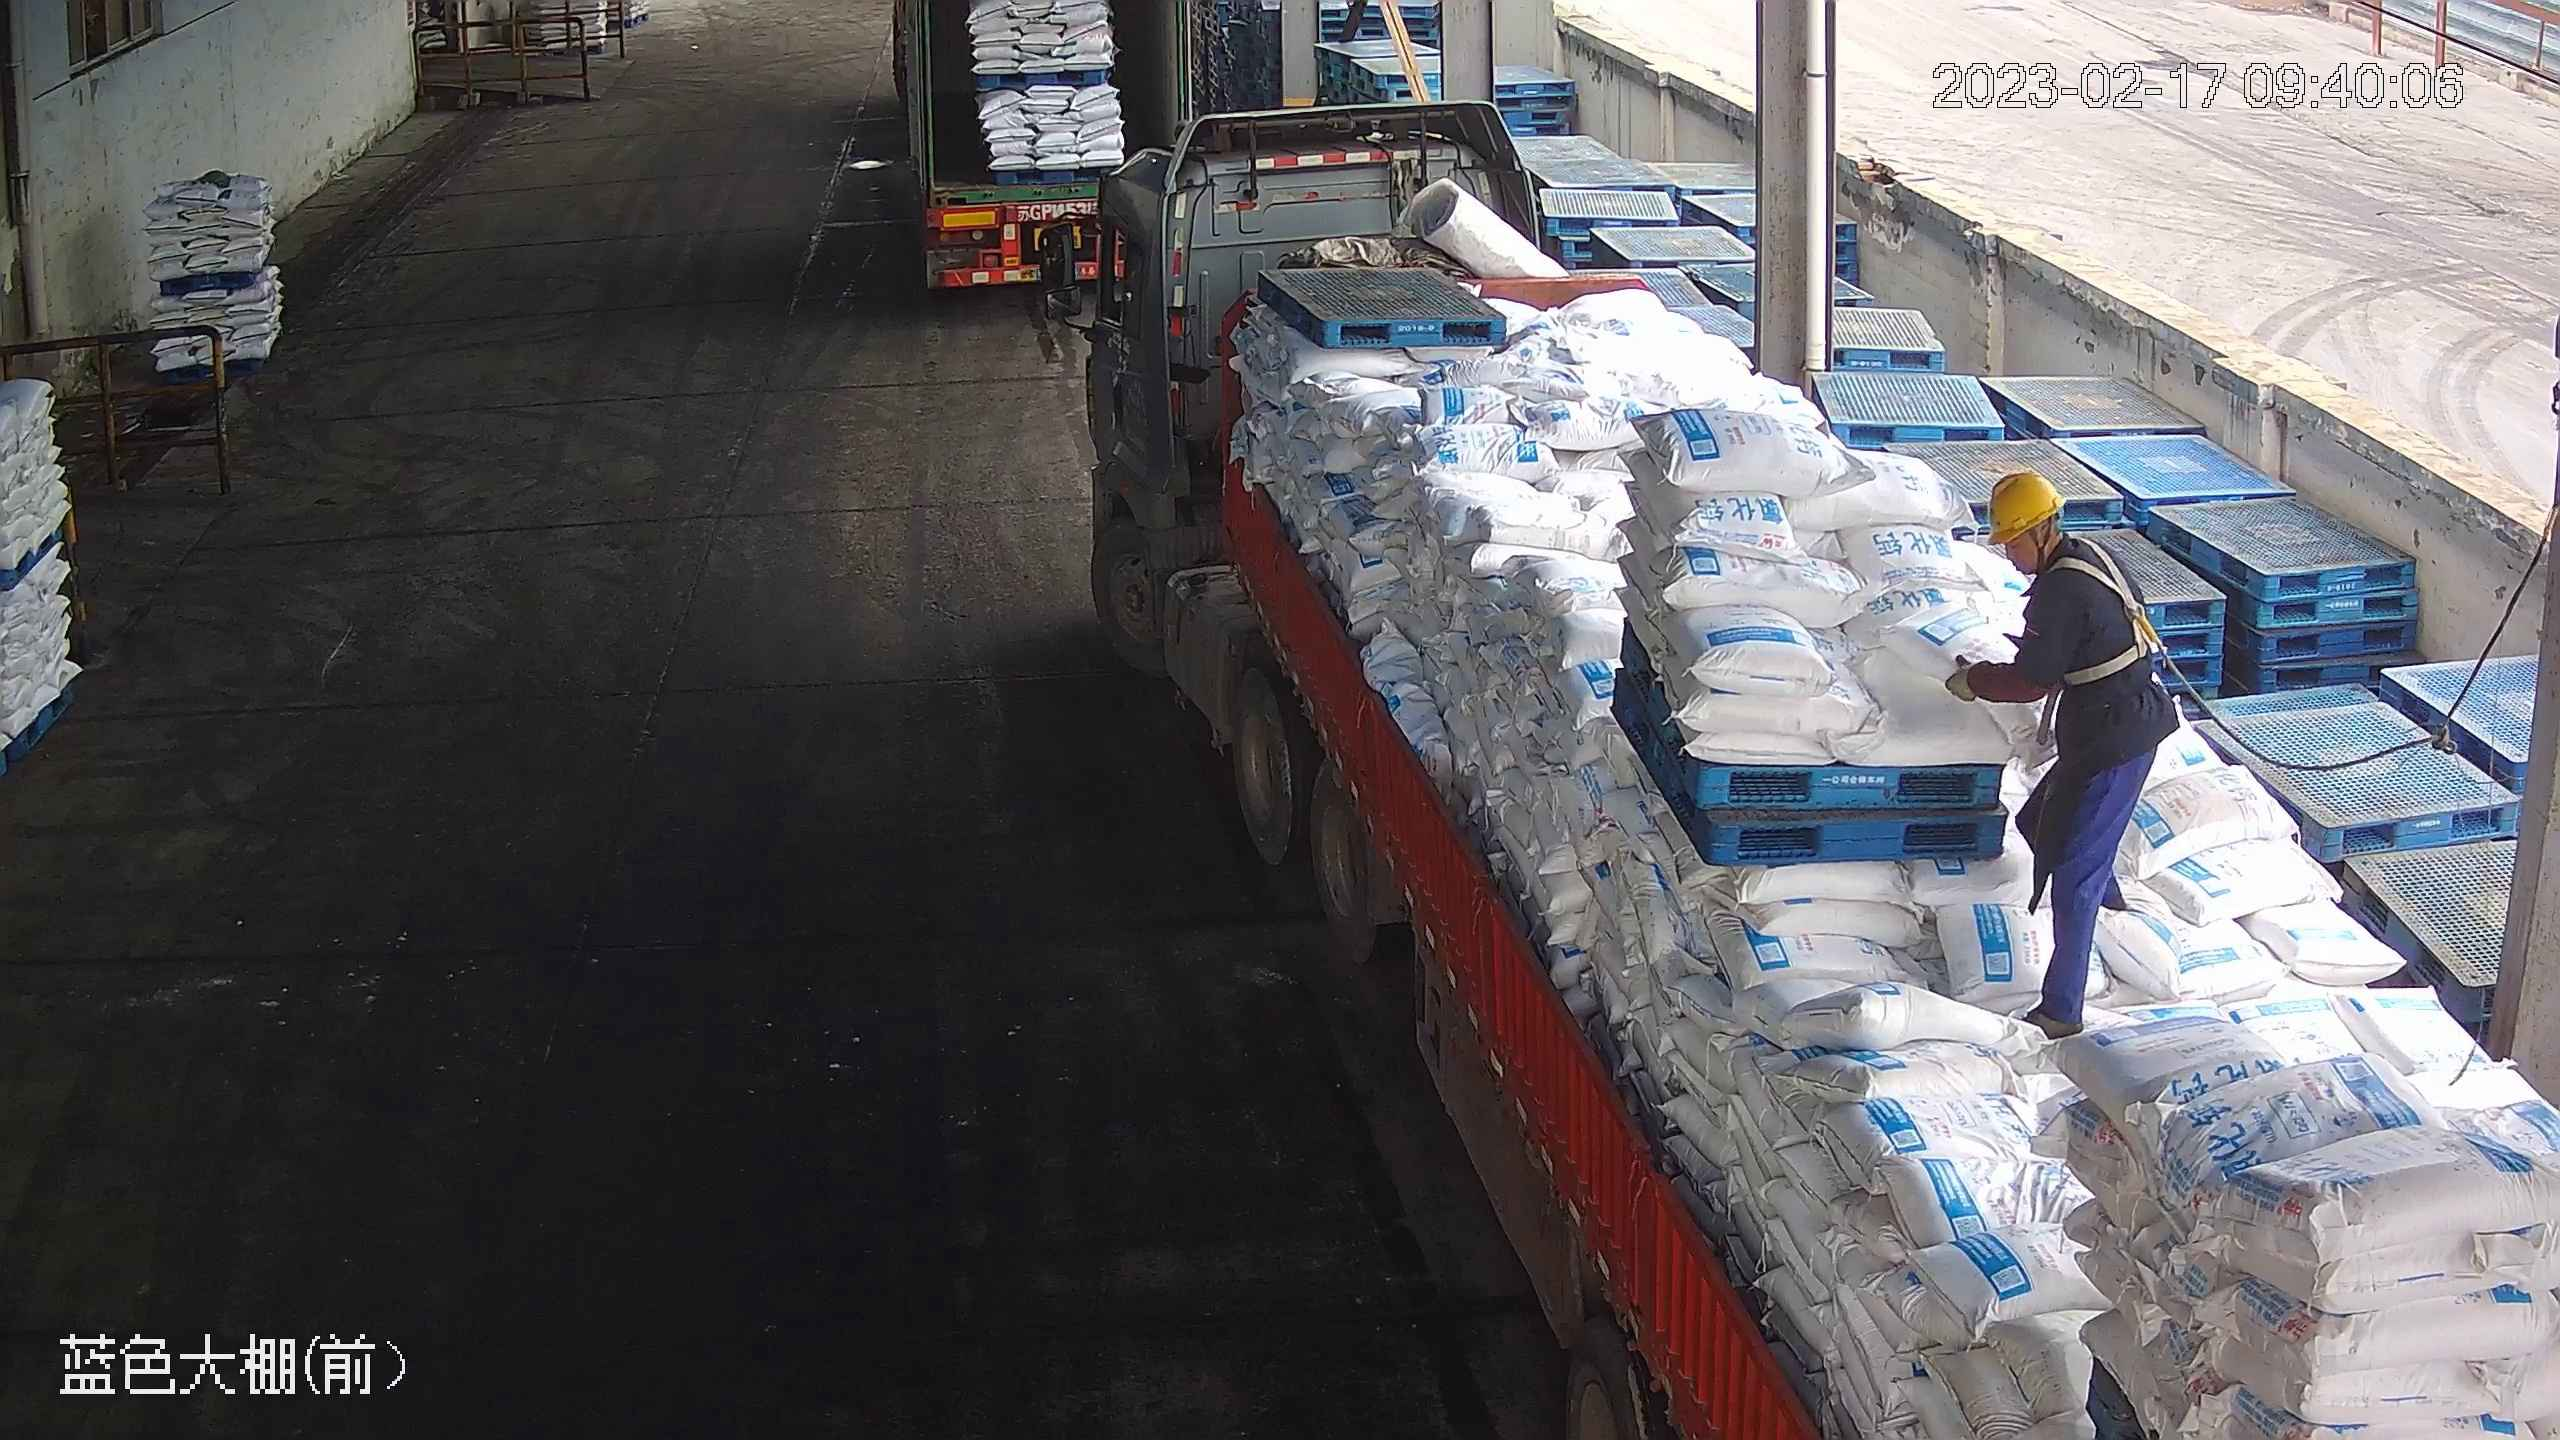belt: (2048, 540, 2169, 687)
head: (1982, 467, 2143, 621)
helmet: (1984, 467, 2068, 543)
people: (1945, 467, 2175, 1041)
truck: (1032, 99, 2559, 1440), (894, 1, 1176, 292)
